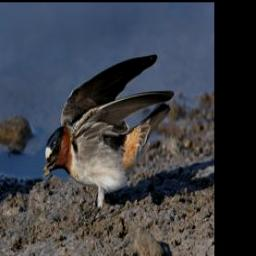Swallow: (43, 53, 175, 226)
